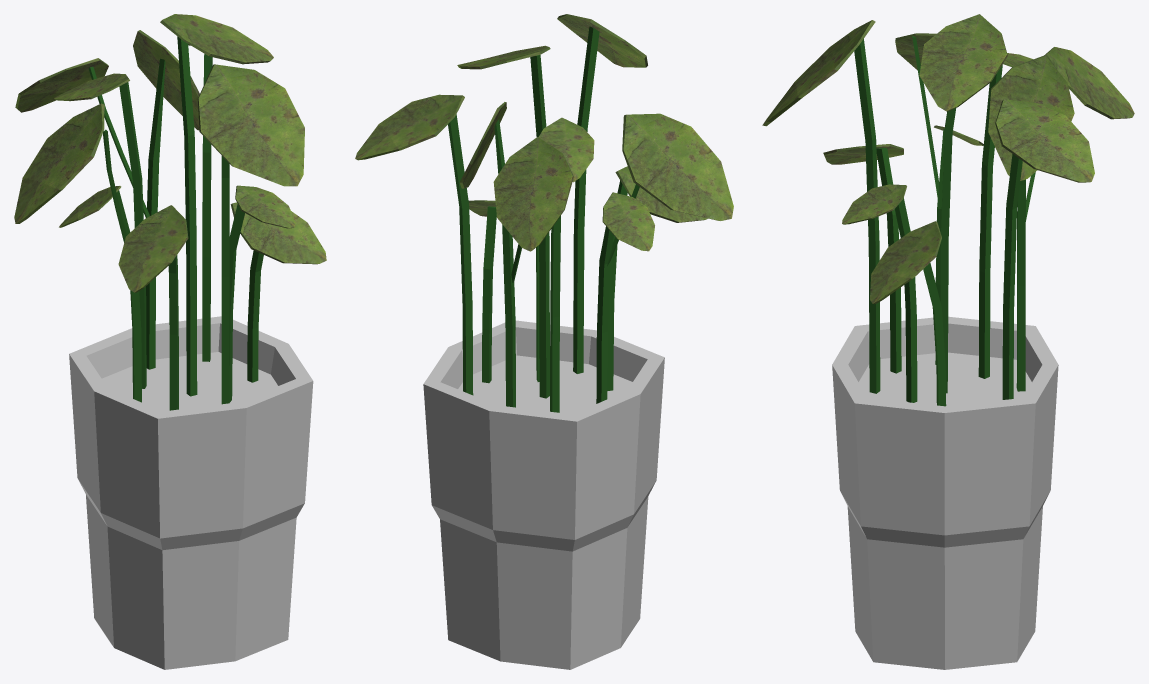
Rendered from PLANTA2.fbx.
3 renders of one model, left to right at view 1: azimuth 30°, elevation 25°; view 2: azimuth 150°, elevation 25°; view 3: azimuth 270°, elevation 25°, orthographic. The views are drawn at different scales.
Parts seen in each view (by area): view 1: Planta.002; view 2: Planta.002; view 3: Planta.002.
Part boxes in pixels (x1,y1,x2,y2): Planta.002: (14, 14, 326, 669); Planta.002: (355, 14, 733, 669); Planta.002: (762, 14, 1134, 669).
Bounding box in the file's own units: 67.12 × 126 × 69.49.
